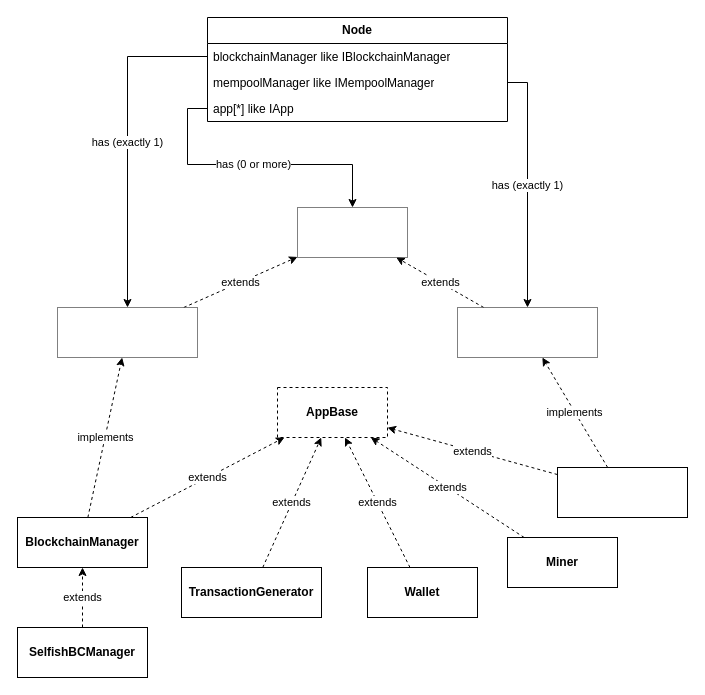
Some shapes in this 705 by 695 pixel diagram are drawn without their labels. The box of each missing label's shape, as (x1, y1, x2, y2) in pixels:
MempoolManager: (556, 466, 688, 518)
«interface» IApp: (296, 206, 408, 258)
«interface» IBlockchainManager: (56, 306, 198, 358)
«interface» IMempoolManager: (456, 306, 598, 358)
